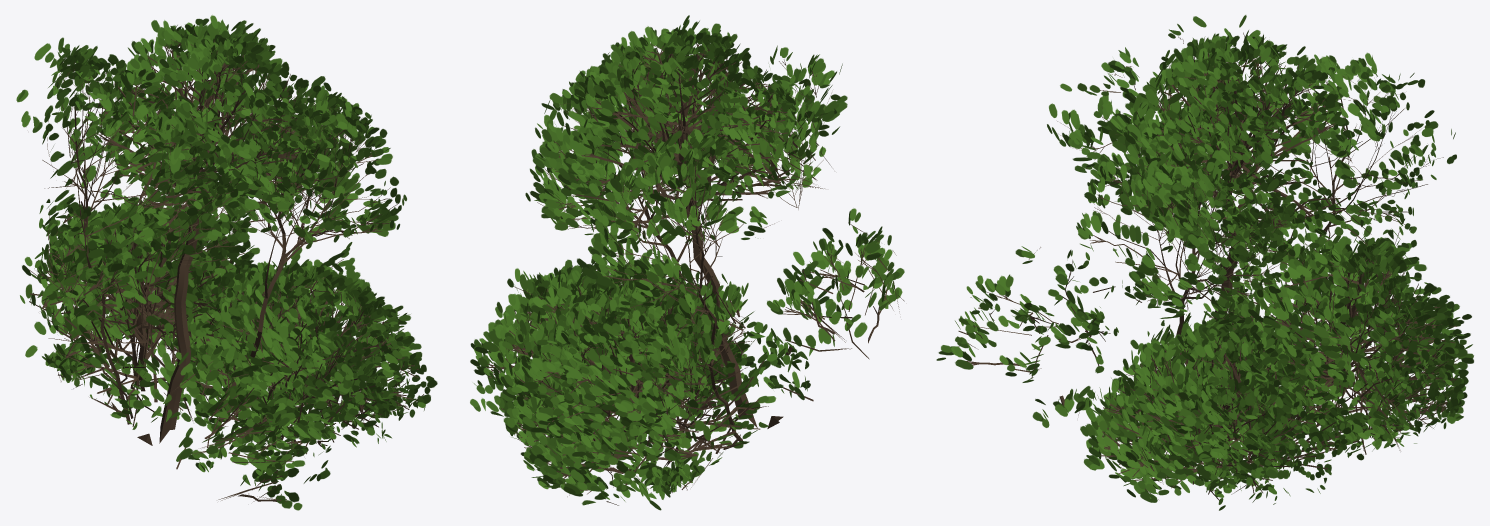
3 renders of one model, left to right at view 1: azimuth 30°, elevation 25°; view 2: azimuth 150°, elevation 25°; view 3: azimuth 270°, elevation 25°, orthographic. The views are drawn at different scales.
Parts seen in each view (by area): view 1: oak 01.001_trunk_Mat.001_0.274; view 2: oak 01.001_trunk_Mat.001_0.274; view 3: oak 01.001_trunk_Mat.001_0.274.
Part boxes in pixels (left/top/right/bottom): oak 01.001_trunk_Mat.001_0.274: left=16, top=15, right=437, bottom=510; oak 01.001_trunk_Mat.001_0.274: left=470, top=15, right=904, bottom=510; oak 01.001_trunk_Mat.001_0.274: left=936, top=15, right=1473, bottom=510.
Size of the model in its own units: 2.8 by 3.61 by 4.35.
2 materials, 1 textured.
